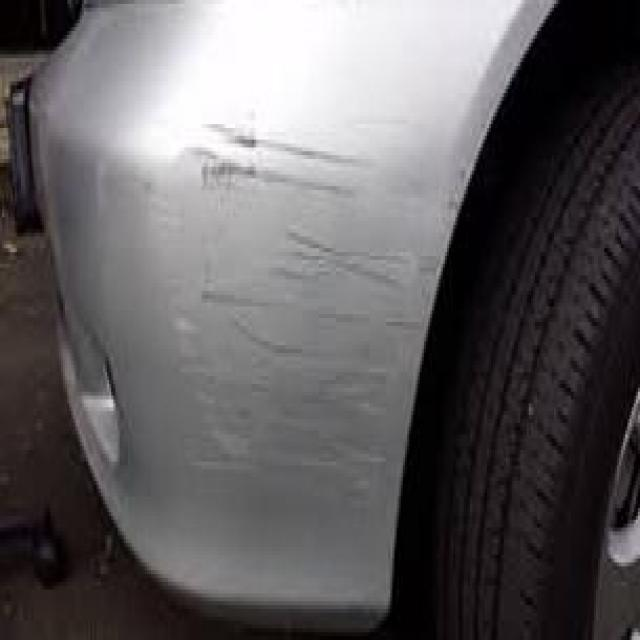scratch: (153, 116, 437, 512)
